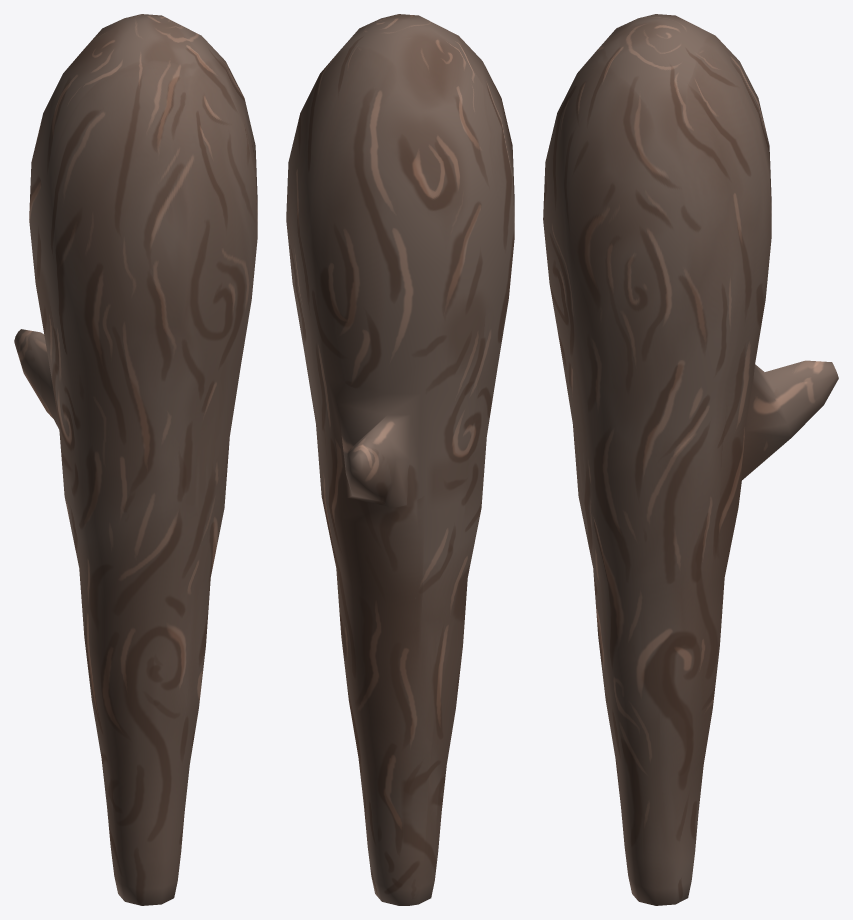
File: Mazo.fbx
3 renders of one model, left to right at view 1: azimuth 30°, elevation 25°; view 2: azimuth 150°, elevation 25°; view 3: azimuth 270°, elevation 25°, orthographic.
Parts seen in each view (by area): view 1: mazo; view 2: mazo; view 3: mazo.
Boxes of the visible parts, left/top/right/bottom form: mazo: left=14, top=14, right=257, bottom=905; mazo: left=286, top=14, right=514, bottom=905; mazo: left=543, top=14, right=838, bottom=905.
Bounding box in the file's own units: 21.88 × 91.48 × 27.88.
